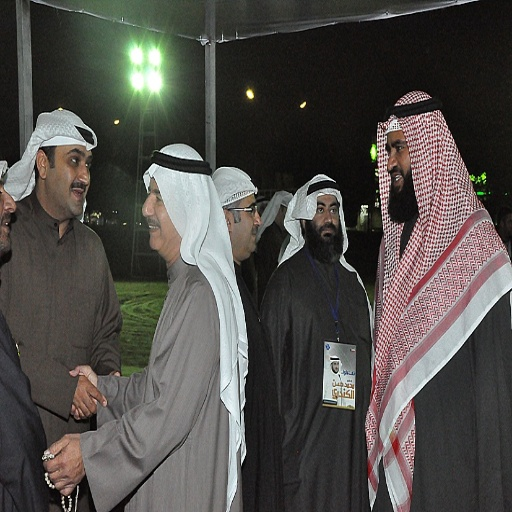hand: (42, 431, 87, 499), (72, 372, 107, 420), (68, 363, 96, 422)
